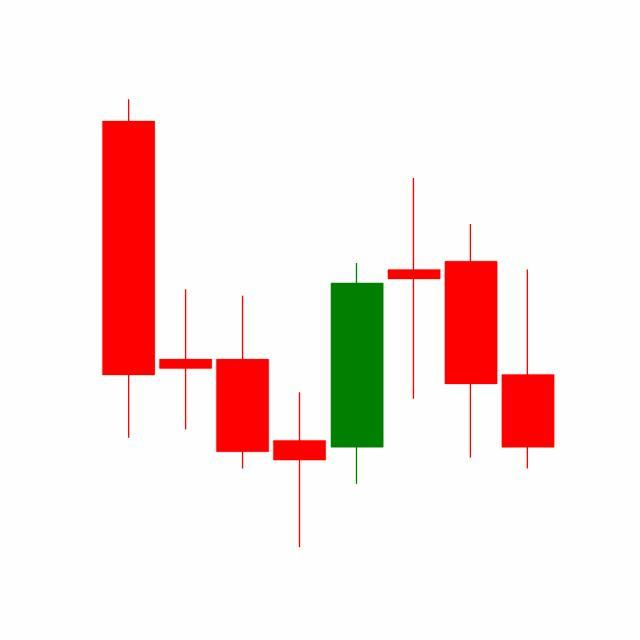Evening Star: (328, 175, 500, 489)
